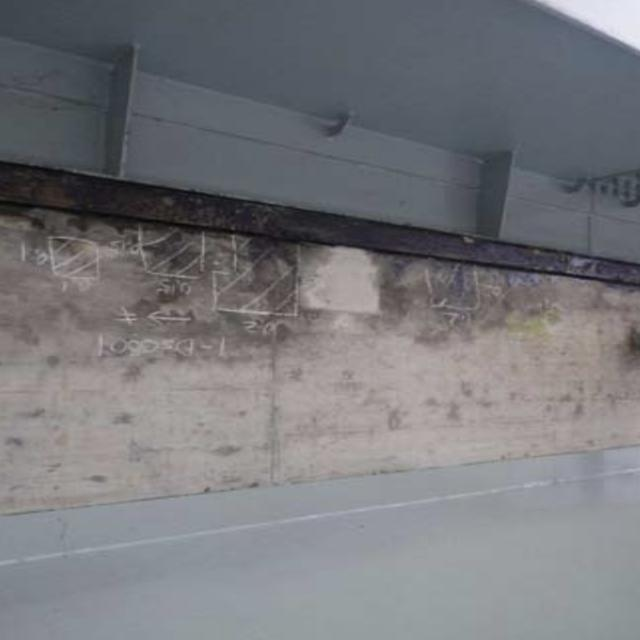freelime: (294, 238, 389, 322)
leakage: (42, 190, 277, 339)
